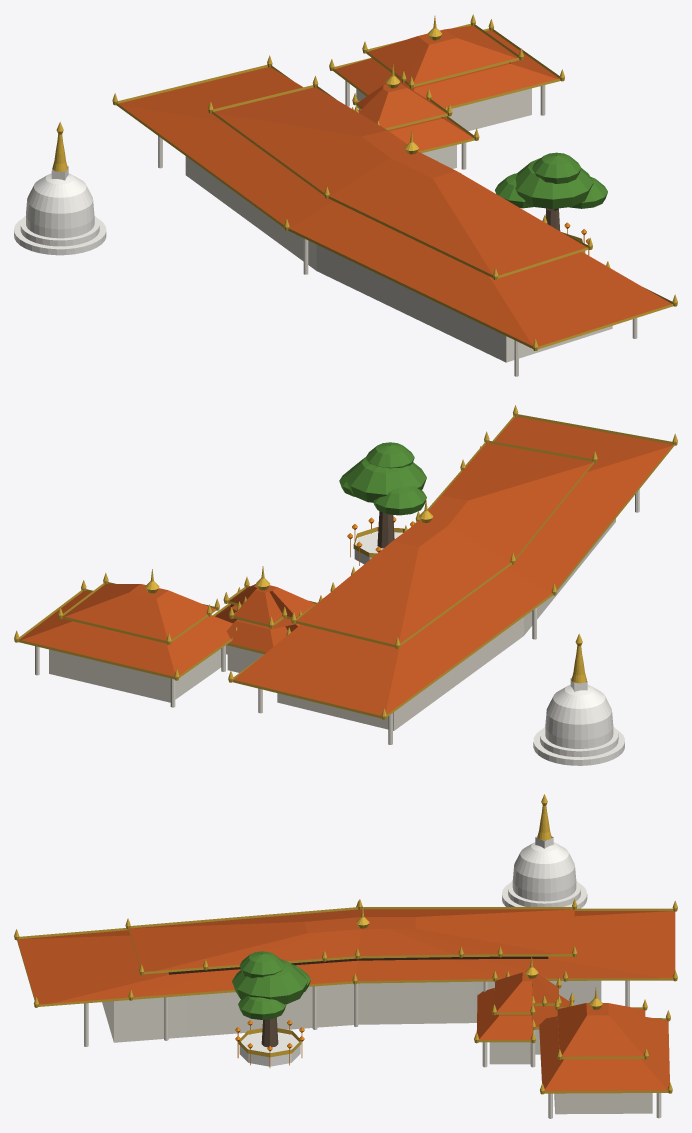
Rendered from gangaramaya.glb.
3 renders of one model, top to bottom at view 1: azimuth 30°, elevation 25°; view 2: azimuth 150°, elevation 25°; view 3: azimuth 270°, elevation 25°, orthographic. The views are drawn at different scales.
Size of the model in its own units: 75.95 by 15.5 by 87.08.
